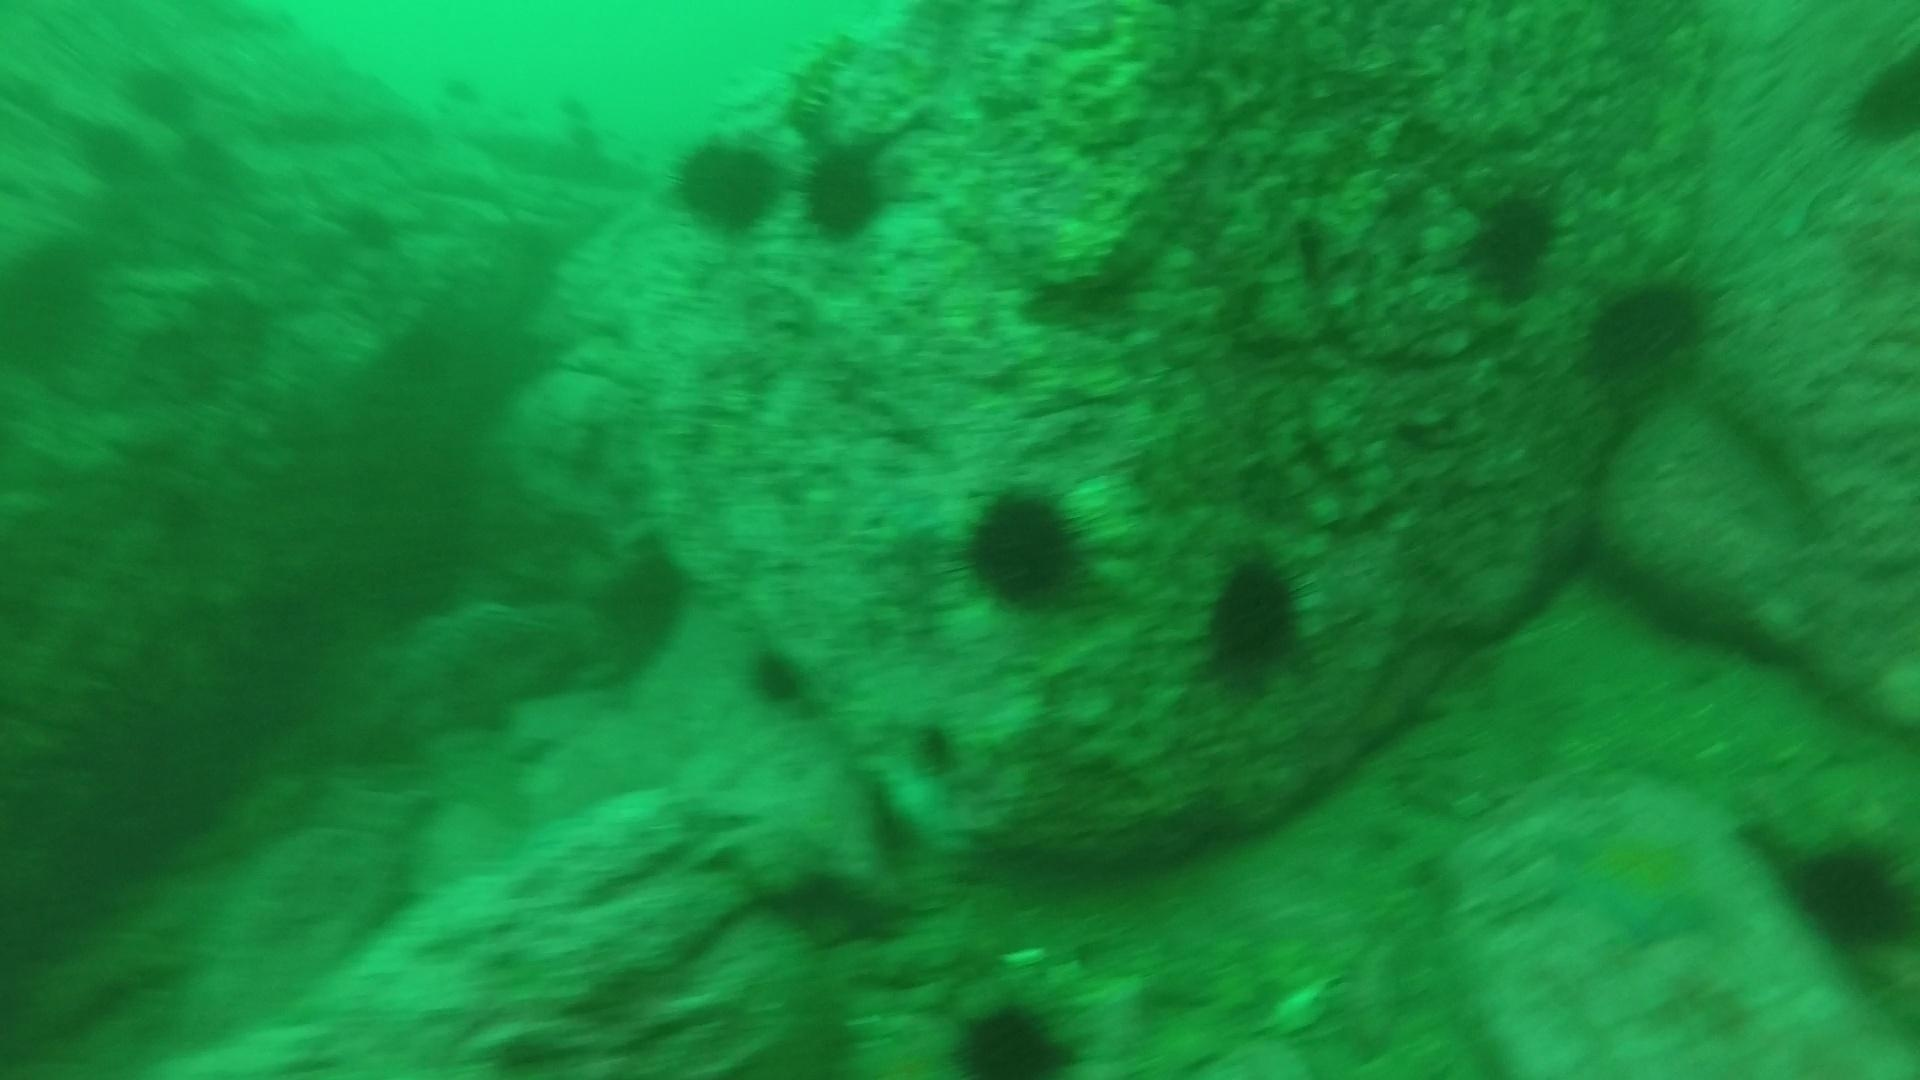echinus: (953, 481, 1097, 615), (1782, 828, 1917, 953), (1193, 545, 1315, 684), (0, 232, 112, 375), (1580, 266, 1716, 380), (666, 127, 787, 239), (1455, 182, 1567, 298), (794, 137, 897, 247), (945, 993, 1083, 1075), (1837, 46, 1920, 152), (117, 57, 202, 131), (738, 640, 819, 713)
holothurian: (773, 26, 866, 146)
starfish: (1543, 804, 1730, 953)
